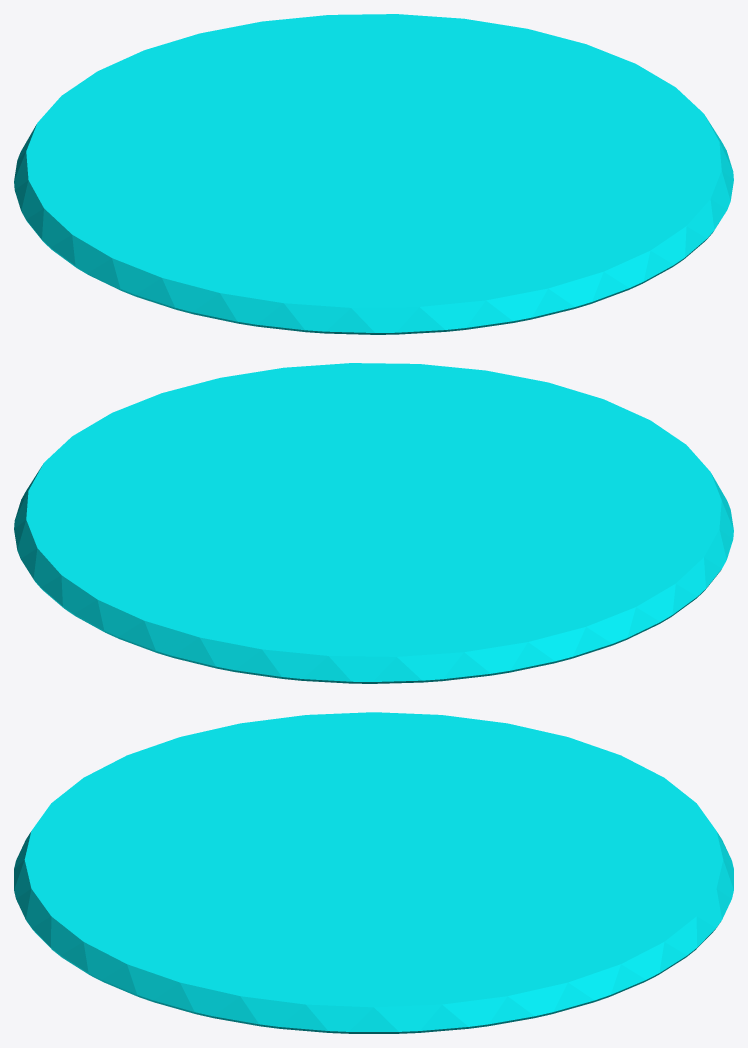
The model's file is Frisbee.fbx.
The picture shows the model from 3 angles, top to bottom: view 1: azimuth 30°, elevation 25°; view 2: azimuth 150°, elevation 25°; view 3: azimuth 270°, elevation 25°; orthographic projection.
Visible parts, largest first — view 1: Circle; view 2: Circle; view 3: Circle.
Part boxes in pixels (x1,y1,x2,y2): Circle: (14,14,733,334); Circle: (14,363,733,683); Circle: (14,712,733,1033).
Size of the model in its own units: 192 by 7.84 by 192.
